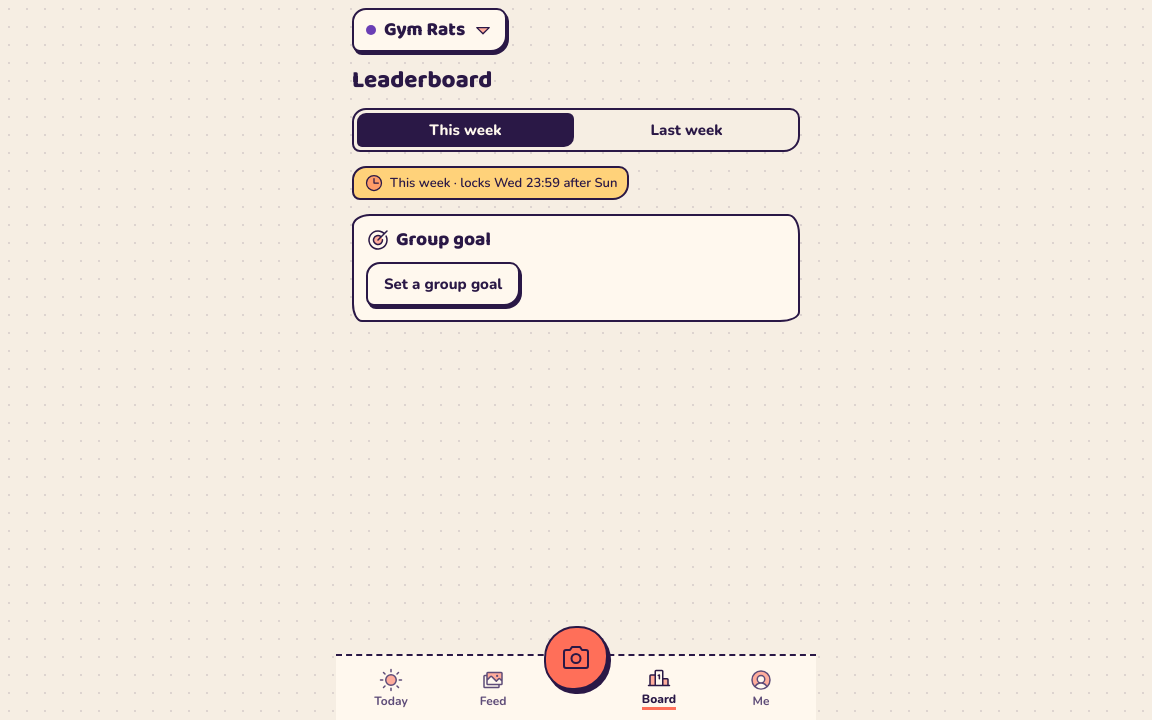
Test: join by code (create screen and sheet) › in the create sheet: a code closes the sheet and opens /join/{code} keeping ?g=
This screenshot has width=1152, height=720.
Click the button with aria-label "switch group". click: (430, 30)
box: top-left (352, 8), bottom-right (507, 52)
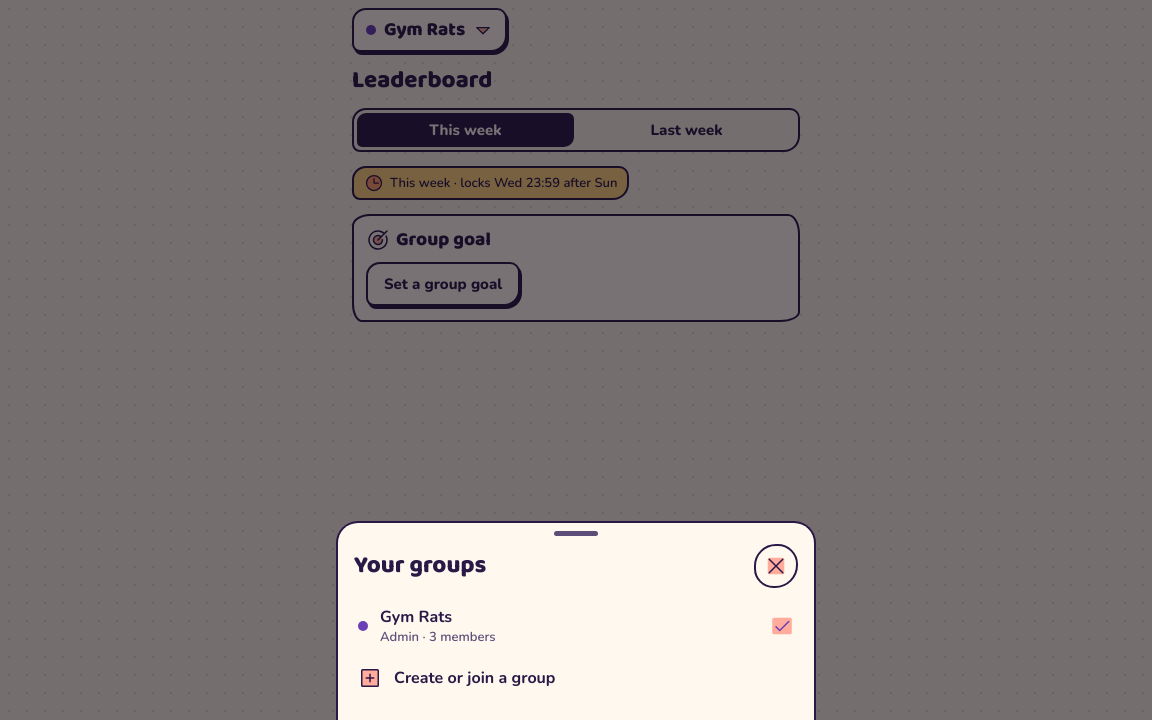
Click the button "Create or join a group". click: (475, 678)
box: top-left (354, 652), bottom-right (798, 704)
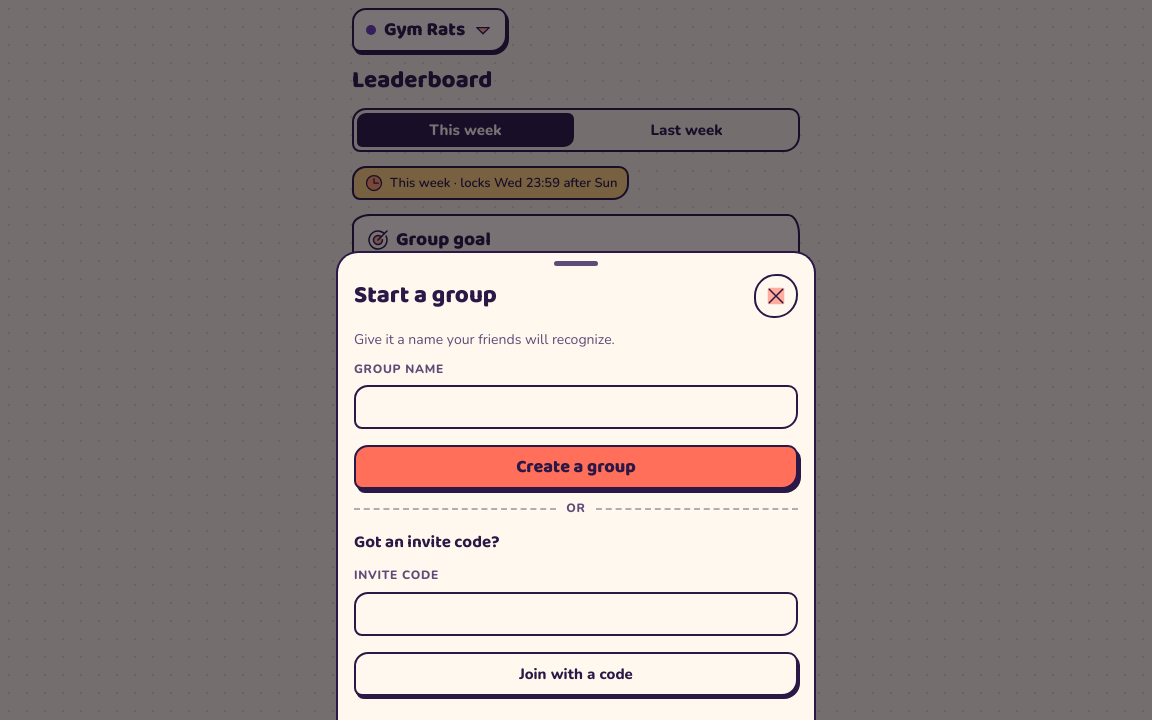
Type "k7qx2m" into the field labelled "Invite code". click: (576, 614)
box: top-left (354, 592), bottom-right (798, 636)
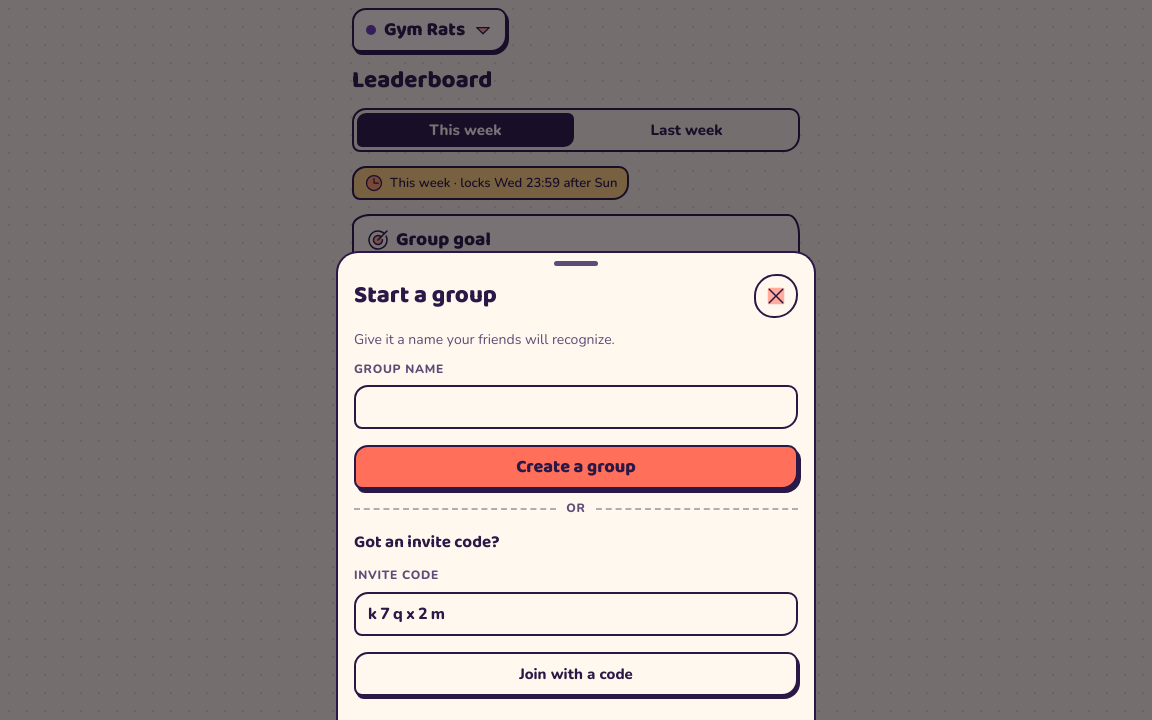
Click the button "Join with a code". click: (576, 674)
box: top-left (354, 652), bottom-right (798, 696)
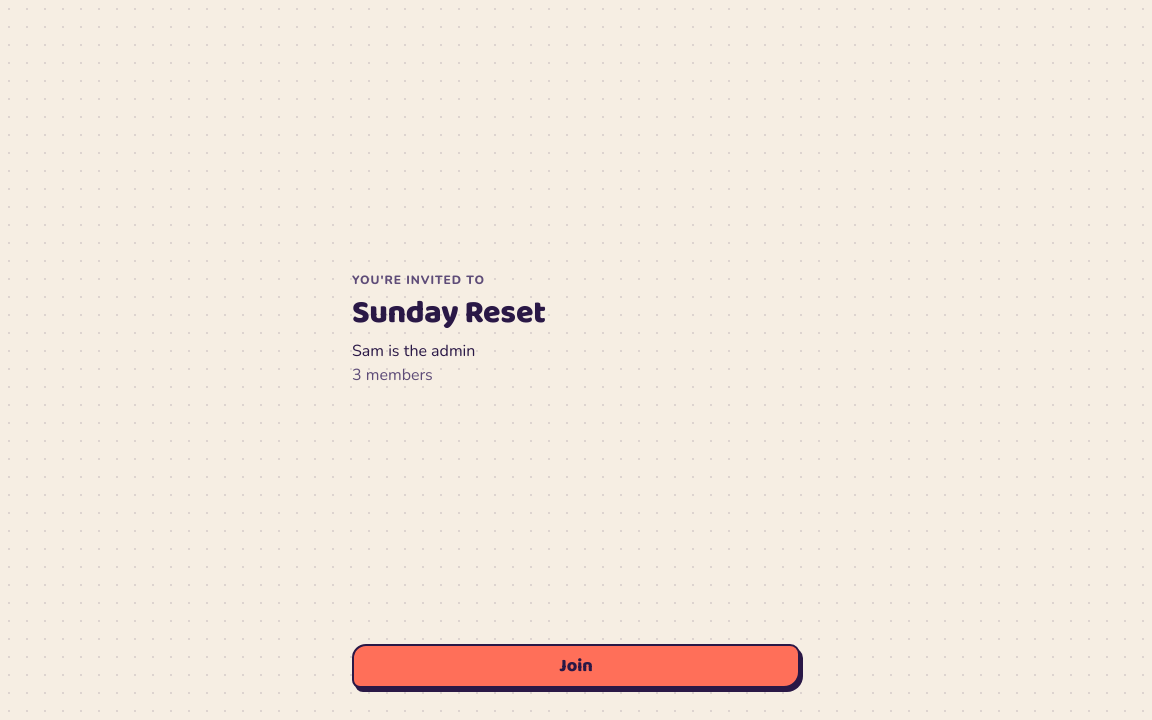
Expected: the dialog is gone
